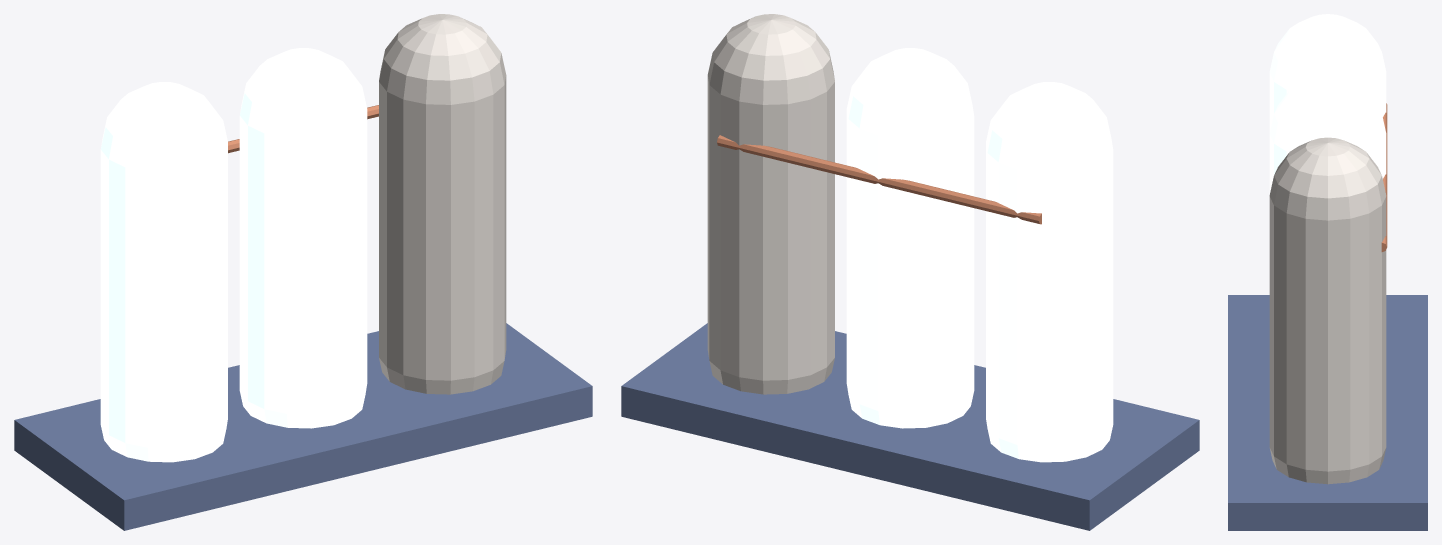
The model's file is life_support_tanks.glb.
The picture shows the model from 3 angles, left to right: view 1: azimuth 30°, elevation 25°; view 2: azimuth 150°, elevation 25°; view 3: azimuth 270°, elevation 25°; orthographic projection. The views are drawn at different scales.
Parts seen in each view (by area): view 1: Cube, Cylinder.001, Cylinder, Cylinder.002, Sphere.002, Sphere.004, Sphere, Sphere.005, Sphere.003, Sphere.001; view 2: Cube, Cylinder, Cylinder.001, Cylinder.002, Sphere.002, Sphere.004, Sphere, Cylinder.003, Sphere.005, Sphere.003, Sphere.001; view 3: Cylinder.002, Cube, Sphere.004, Sphere, Sphere.002, Sphere.005, Cylinder, Cylinder.001, Cylinder.003.
Boxes of the visible parts, x1,y1,x2,y2 form: Cube: [14, 323, 592, 530]; Cylinder.001: [239, 108, 367, 414]; Cylinder: [100, 144, 227, 448]; Cylinder.002: [379, 75, 506, 380]; Sphere.002: [240, 48, 366, 138]; Sphere.004: [379, 14, 506, 104]; Sphere: [100, 82, 227, 172]; Sphere.005: [379, 358, 504, 394]; Sphere.003: [240, 392, 365, 428]; Sphere.001: [101, 426, 226, 462]; Cube: [621, 323, 1199, 530]; Cylinder: [986, 144, 1113, 448]; Cylinder.001: [846, 108, 974, 414]; Cylinder.002: [707, 75, 834, 380]; Sphere.002: [847, 48, 973, 138]; Sphere.004: [707, 14, 834, 104]; Sphere: [986, 82, 1113, 172]; Cylinder.003: [717, 135, 1041, 224]; Sphere.005: [709, 358, 834, 394]; Sphere.003: [848, 392, 973, 428]; Sphere.001: [987, 426, 1112, 462]; Cylinder.002: [1269, 197, 1386, 471]; Cube: [1228, 295, 1427, 530]; Sphere.004: [1269, 137, 1386, 220]; Sphere: [1269, 14, 1386, 90]; Sphere.002: [1269, 75, 1386, 152]; Sphere.005: [1270, 448, 1385, 484]; Cylinder: [1269, 73, 1386, 132]; Cylinder.001: [1269, 135, 1386, 194]; Cylinder.003: [1381, 103, 1387, 251].
Size of the model in its own units: 3.2 by 2.56 by 1.3.
